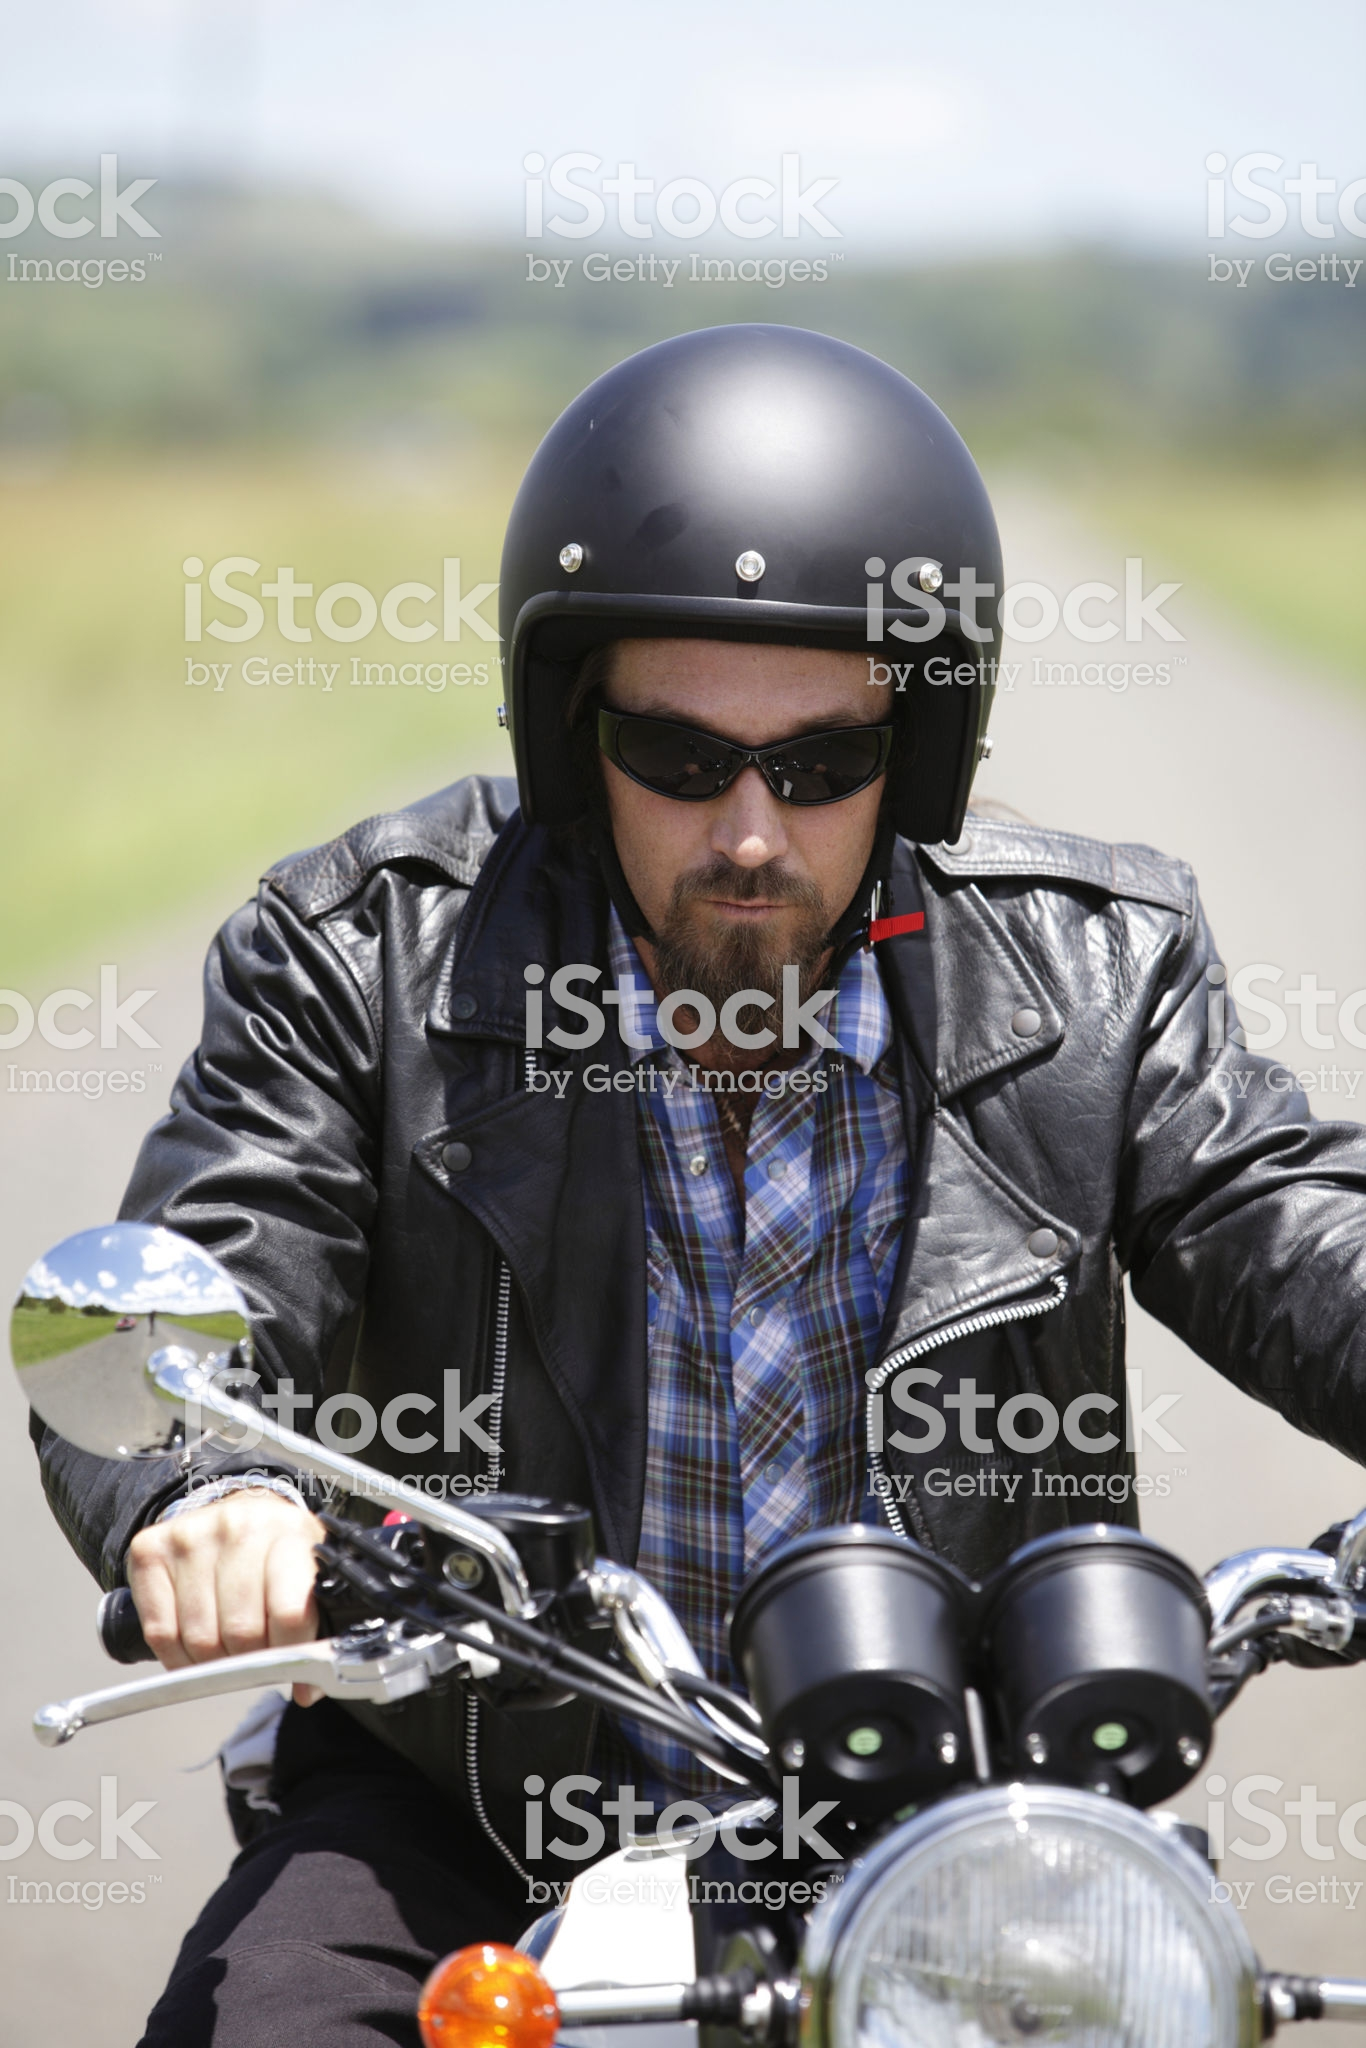helmet: (476, 306, 1063, 830)
